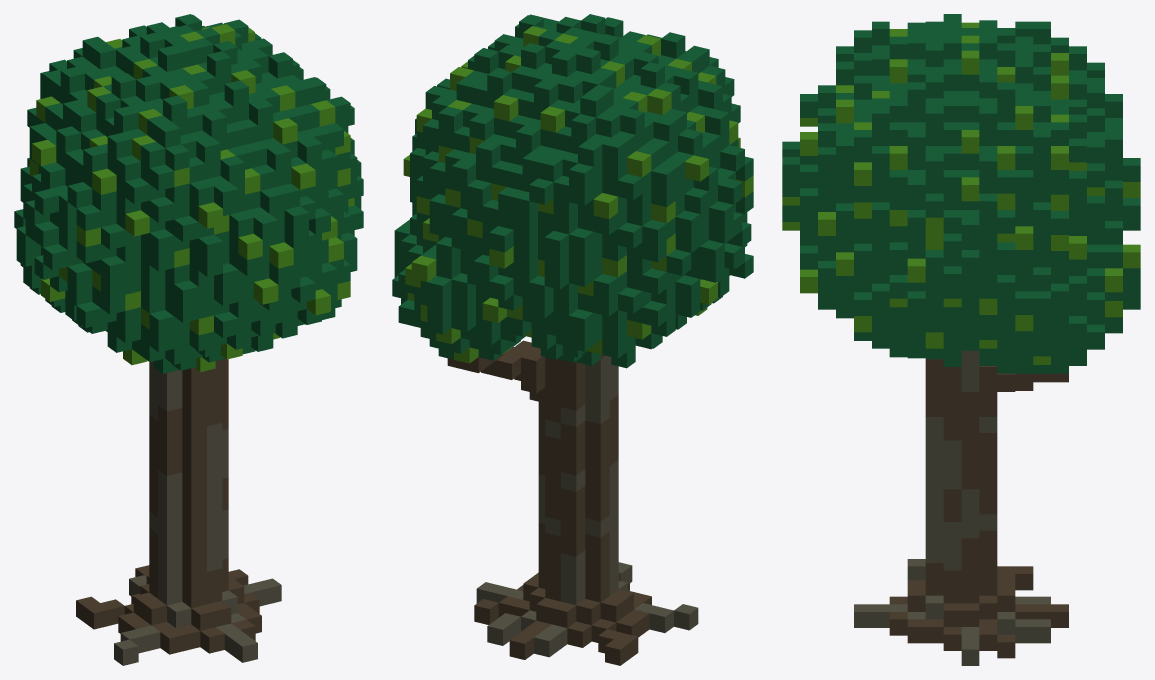
File: tree_big_1.obj
3 views of the same model, side by side, from view 1: azimuth 30°, elevation 25°; view 2: azimuth 150°, elevation 25°; view 3: azimuth 270°, elevation 25° (orthographic).
Size of the model in its own units: 2 by 3.6 by 2.
1 material, 1 textured.
